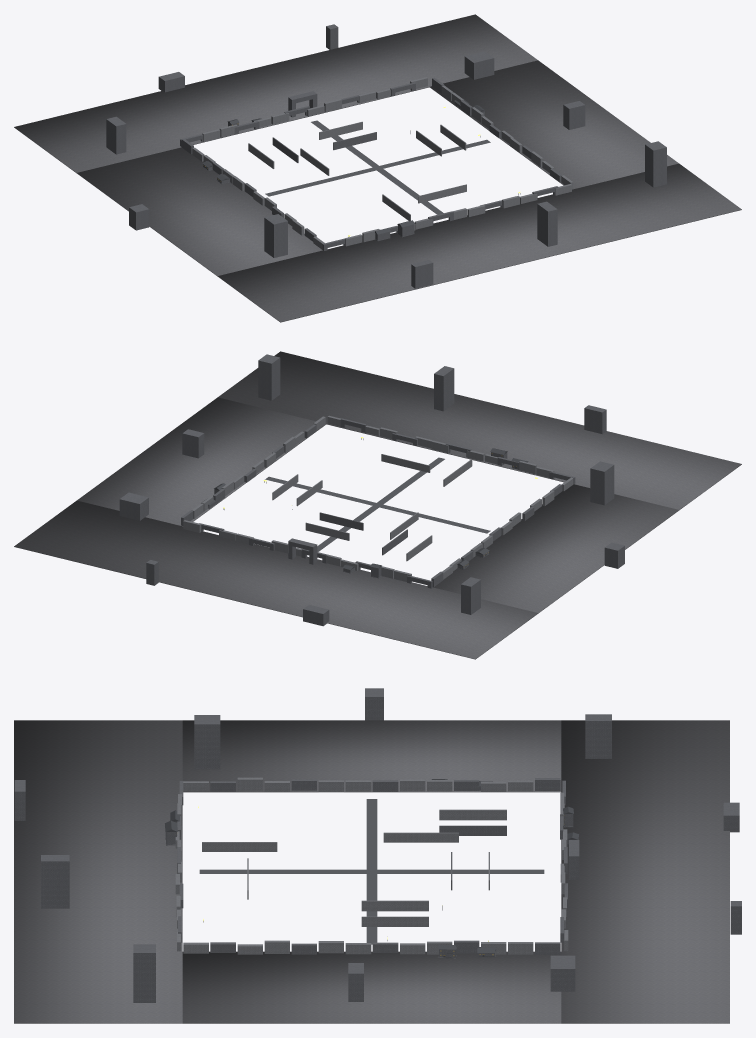
The picture shows the model from 3 angles, top to bottom: view 1: azimuth 30°, elevation 25°; view 2: azimuth 150°, elevation 25°; view 3: azimuth 270°, elevation 25°; orthographic projection. The views are drawn at different scales.
Parts seen in each view (by area): view 1: HB_z08_LOD2_terrain, HB_z08_LOD2_wall_alt, HB_z08_LOD2_wall, HB_z08_LOD2_road; view 2: HB_z08_LOD2_terrain, HB_z08_LOD2_wall_alt, HB_z08_LOD2_wall, HB_z08_LOD2_road; view 3: HB_z08_LOD2_terrain, HB_z08_LOD2_wall_alt, HB_z08_LOD2_wall, HB_z08_LOD2_road, HB_z08_LOD2_trim.
Part boxes in pixels (x1,y1,x2,y2): HB_z08_LOD2_terrain: (14, 14, 741, 322); HB_z08_LOD2_wall_alt: (106, 24, 666, 288); HB_z08_LOD2_wall: (192, 77, 573, 249); HB_z08_LOD2_road: (265, 120, 490, 214); HB_z08_LOD2_terrain: (14, 351, 741, 659); HB_z08_LOD2_wall_alt: (119, 354, 624, 626); HB_z08_LOD2_wall: (183, 415, 573, 581); HB_z08_LOD2_road: (265, 457, 490, 551); HB_z08_LOD2_terrain: (14, 720, 729, 1023); HB_z08_LOD2_wall_alt: (14, 688, 741, 1002); HB_z08_LOD2_wall: (175, 777, 568, 954); HB_z08_LOD2_road: (199, 799, 544, 944); HB_z08_LOD2_trim: (165, 779, 578, 957).
Size of the model in its own units: 568 by 43.33 by 561.
8 materials, 6 textured.
